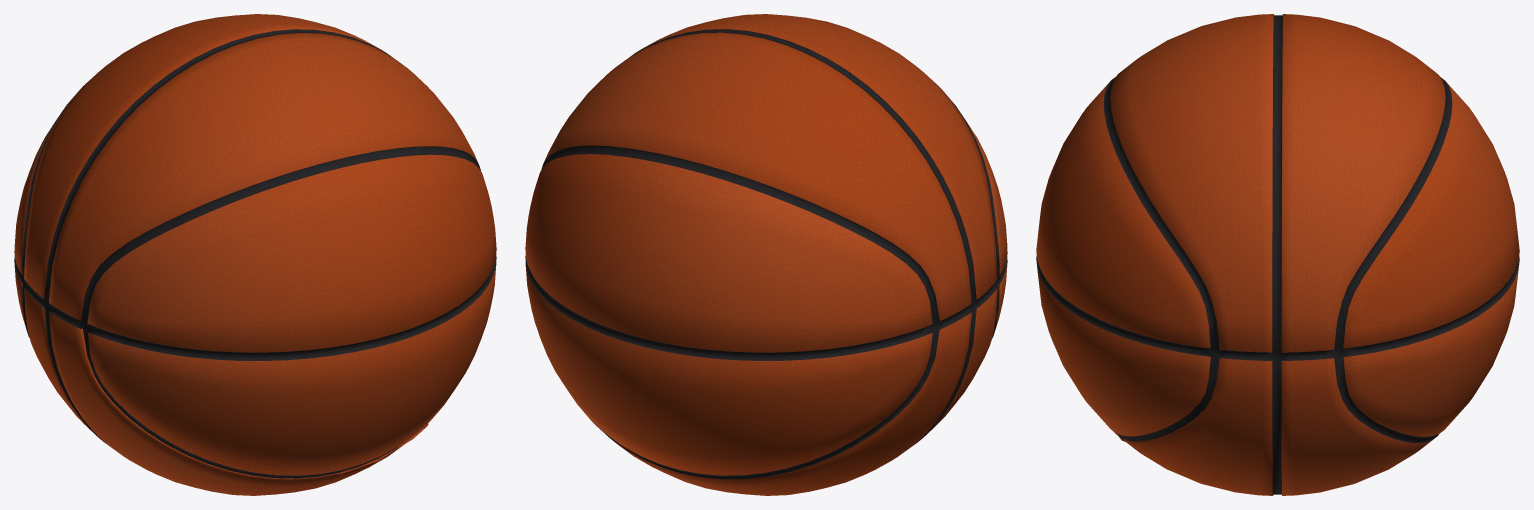
Rendered from nba_basketball_final.glb.
3 renders of one model, left to right at view 1: azimuth 30°, elevation 25°; view 2: azimuth 150°, elevation 25°; view 3: azimuth 270°, elevation 25°, orthographic.
Parts seen in each view (by area): view 1: Panel_07, Panel_03, Panel_05, Panel_04, Inner_Core, Panel_01, Panel_02, Panel_08; view 2: Panel_08, Panel_04, Panel_06, Panel_03, Inner_Core, Panel_02, Panel_01, Panel_07; view 3: Panel_04, Panel_03, Panel_08, Panel_07, Inner_Core, Panel_06, Panel_05, Panel_01, Panel_02.
Boxes of the visible parts, x1,y1,x2,y2 form: Panel_07: (87,154,496,352); Panel_03: (49,33,478,320); Panel_05: (87,267,495,475); Panel_04: (24,14,385,298); Inner_Core: (14,29,496,479); Panel_01: (49,311,429,495); Panel_02: (24,288,100,439); Panel_08: (14,124,53,274); Panel_08: (525,154,932,352); Panel_04: (544,32,971,320); Panel_06: (525,265,932,475); Panel_03: (636,14,997,299); Inner_Core: (525,29,1007,479); Panel_02: (610,312,971,495); Panel_01: (919,288,997,440); Panel_07: (968,124,1007,275); Panel_04: (1281,14,1445,352); Panel_03: (1110,14,1273,352); Panel_08: (1343,82,1519,348); Panel_07: (1036,81,1210,348); Inner_Core: (1036,14,1519,495); Panel_06: (1343,264,1519,436); Panel_05: (1037,269,1210,436); Panel_01: (1113,357,1272,495); Panel_02: (1281,358,1434,495).
Size of the model in its own units: 37.99 by 38.01 by 38.11.
2 materials, 1 textured.
